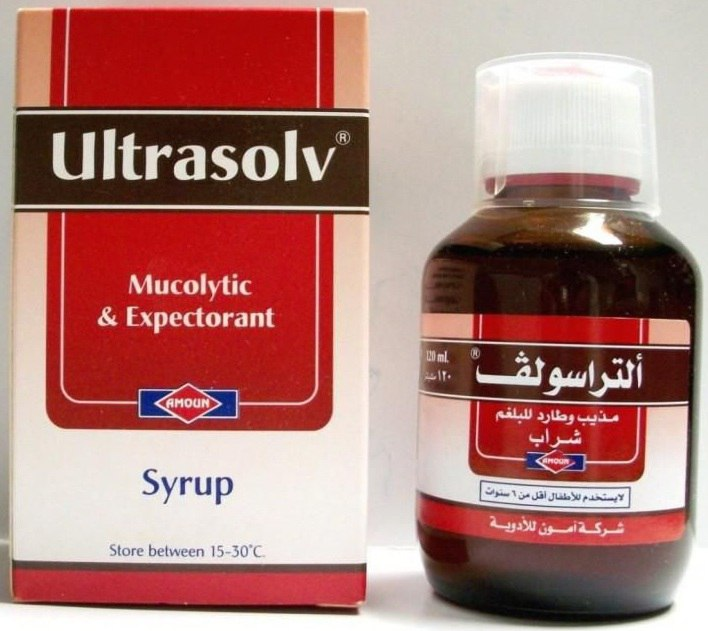Medicine: (12, 5, 378, 612), (407, 42, 708, 631)
